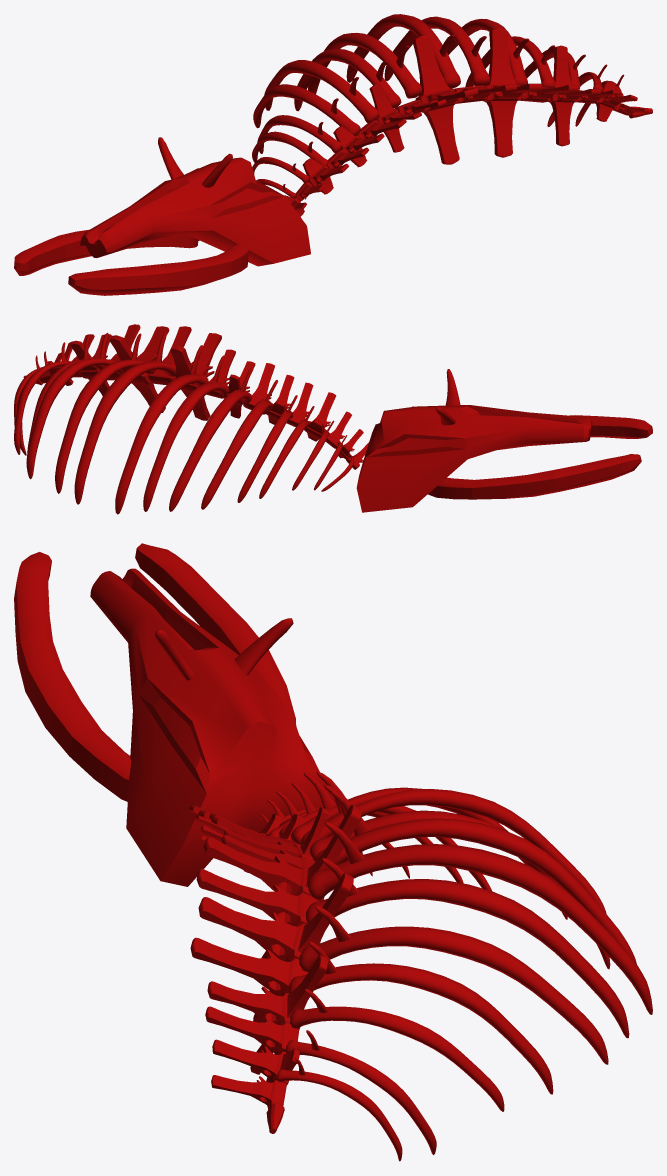
The model's file is Asset_WhaleBone01.fbx.
The picture shows the model from 3 angles, top to bottom: view 1: azimuth 30°, elevation 25°; view 2: azimuth 150°, elevation 25°; view 3: azimuth 270°, elevation 25°; orthographic projection. The views are drawn at different scales.
Visible parts, largest first — view 1: polySurface85; view 2: polySurface85; view 3: polySurface85.
Boxes of the visible parts, bbox=[...] form: polySurface85: bbox=[14, 14, 652, 295]; polySurface85: bbox=[14, 324, 652, 514]; polySurface85: bbox=[14, 543, 652, 1161].
Bounding box in the file's own units: 9.64 × 2.02 × 5.
